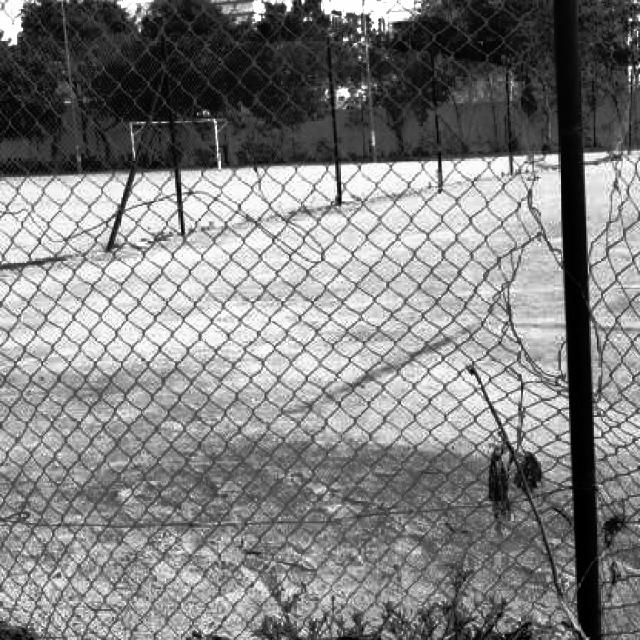anomaly-fence: (481, 54, 640, 396)
